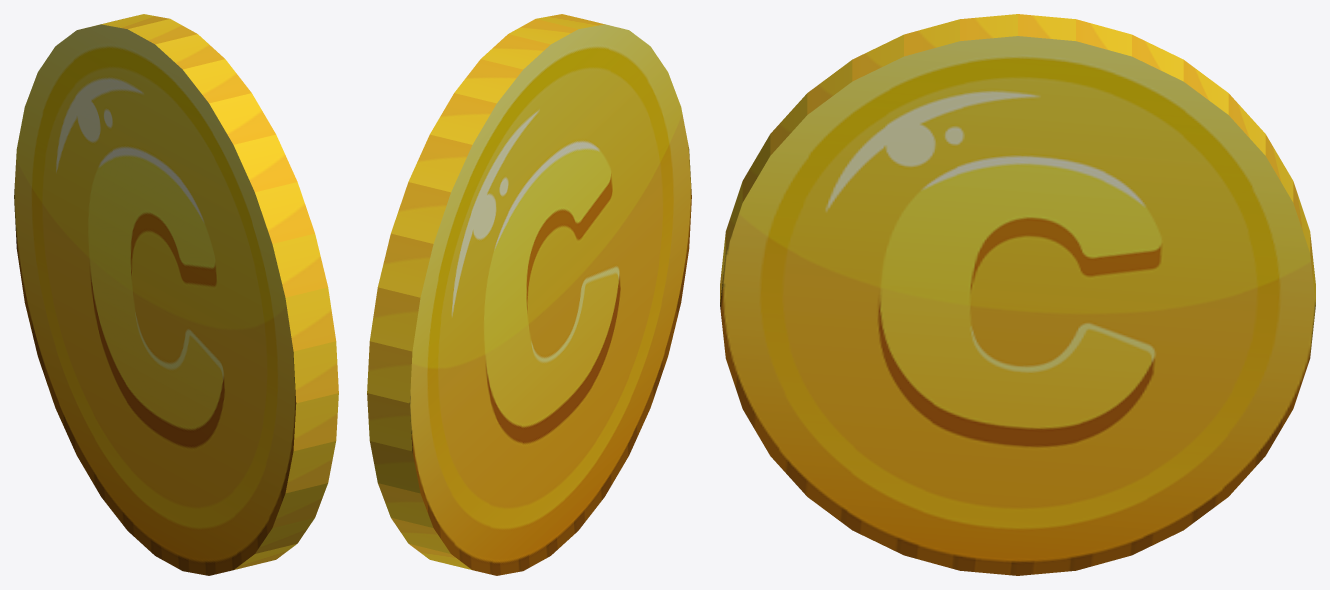
The model's file is Coin.obj.
3 renders of one model, left to right at view 1: azimuth 30°, elevation 25°; view 2: azimuth 150°, elevation 25°; view 3: azimuth 270°, elevation 25°, orthographic. The views are drawn at different scales.
Visible parts, largest first — view 1: Coin; view 2: Coin; view 3: Coin.
Part boxes in pixels (x1,y1,x2,y2): Coin: (14,14,338,575); Coin: (367,14,691,575); Coin: (720,14,1315,575).
Size of the model in its own units: 0.1748 by 2 by 2.
Materials: 1 (1 with a texture image).
